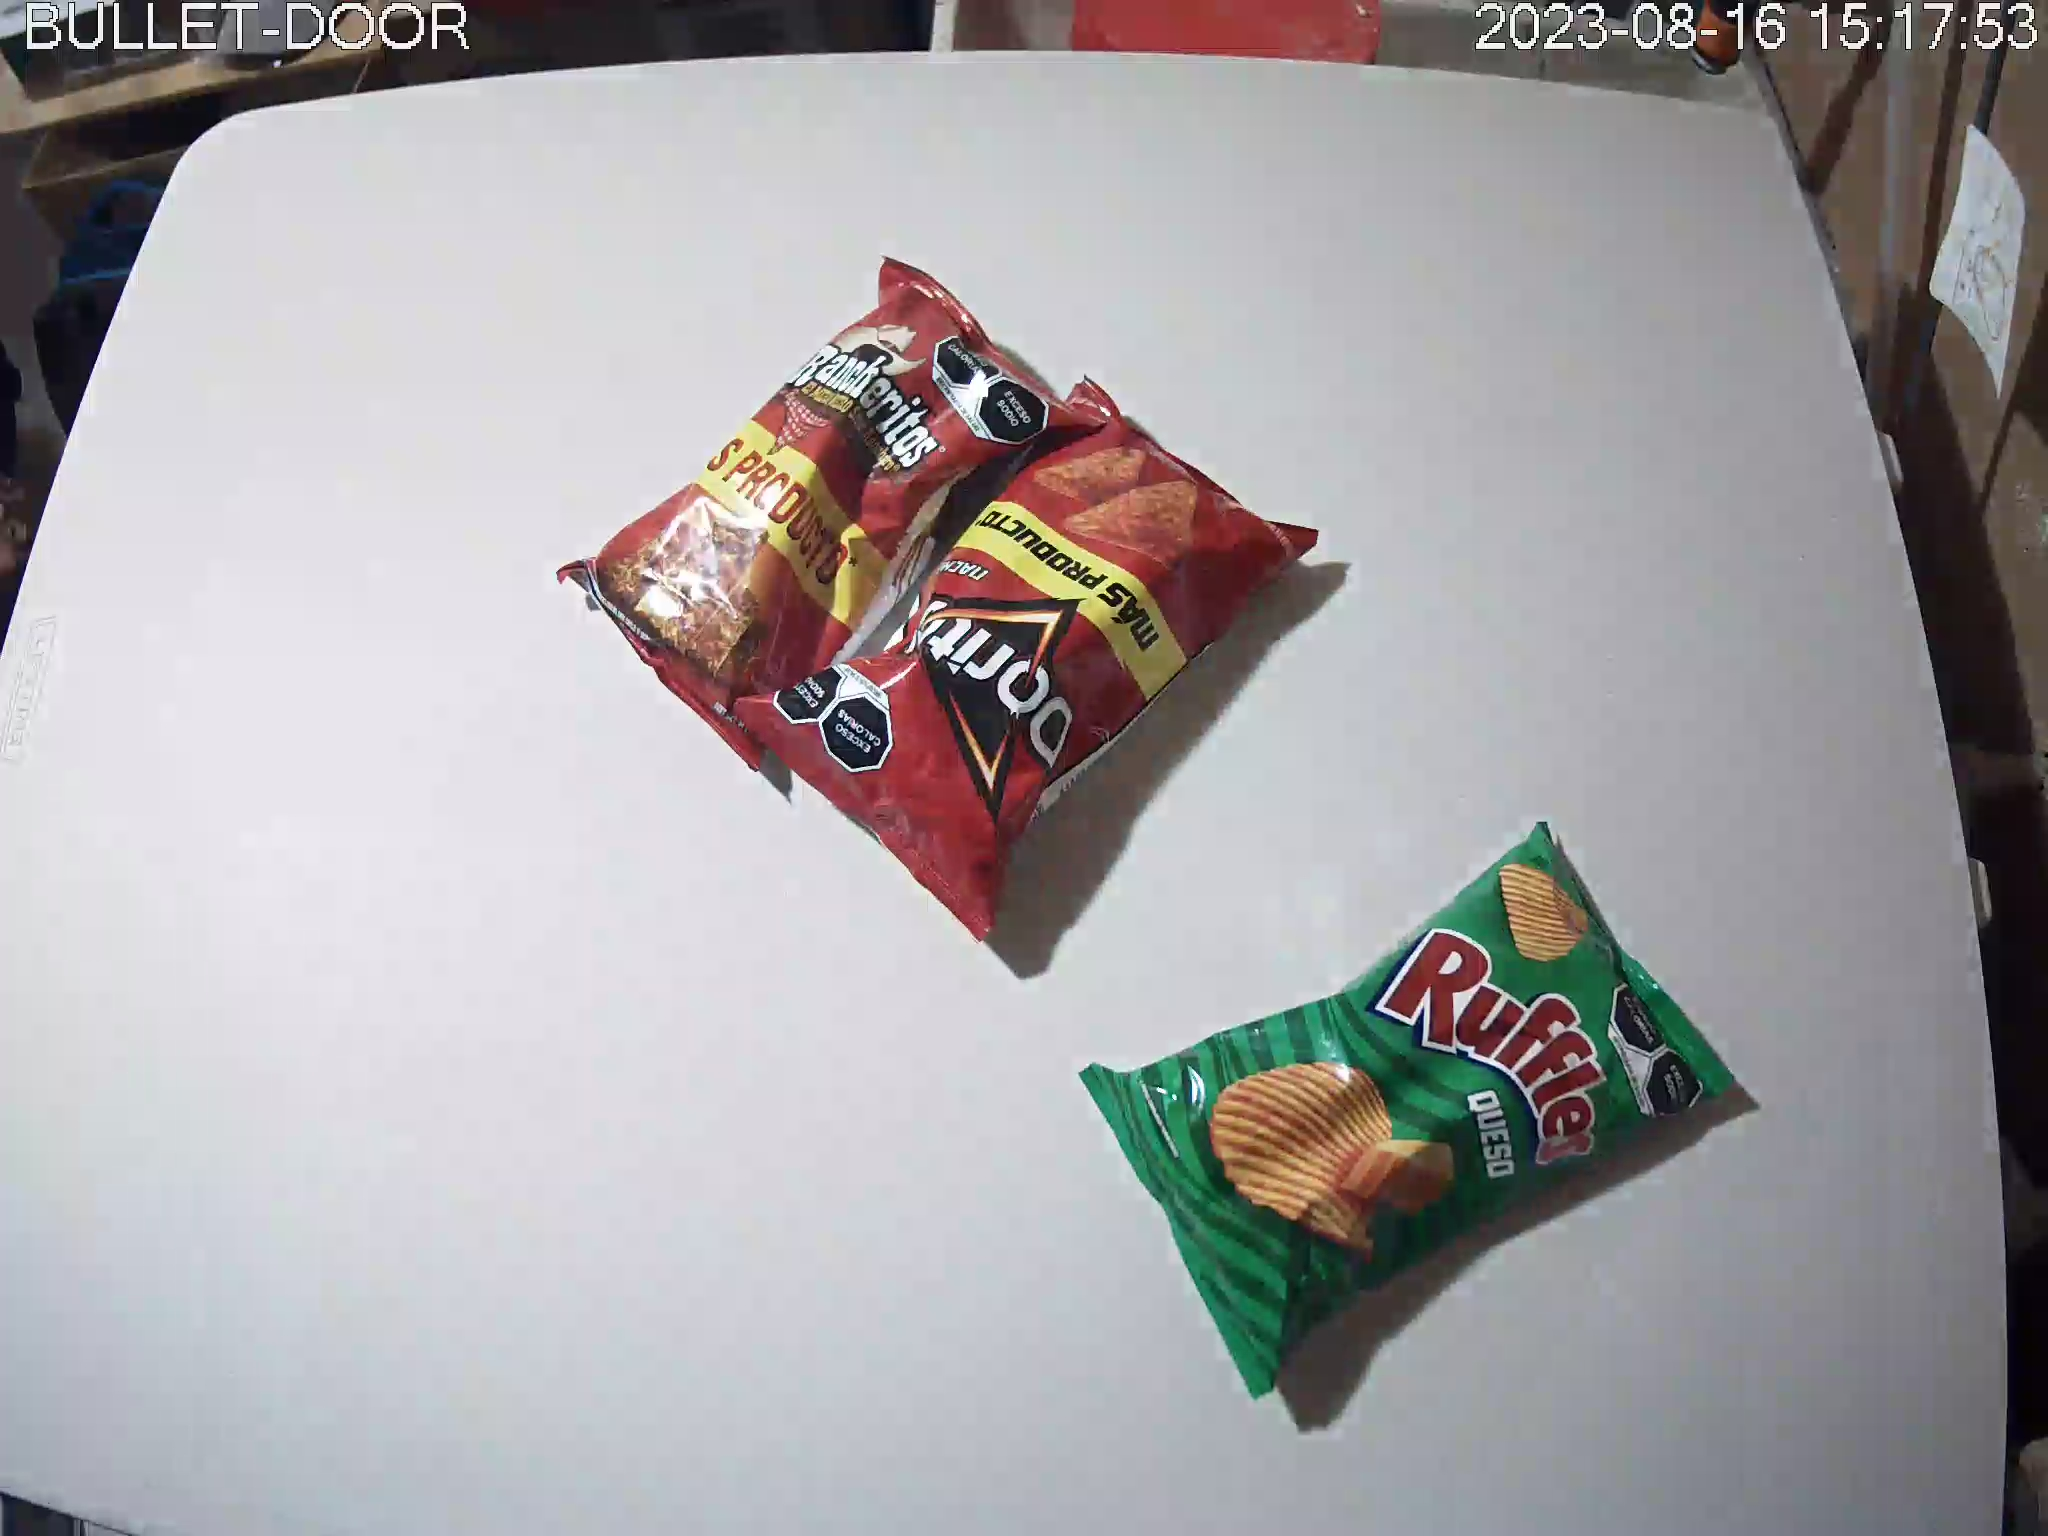DoritosN_61_F: (732, 373, 1321, 939)
Rancheritos_58_F: (555, 255, 1109, 773)
RufflesQ_48_F: (1079, 821, 1737, 1402)
